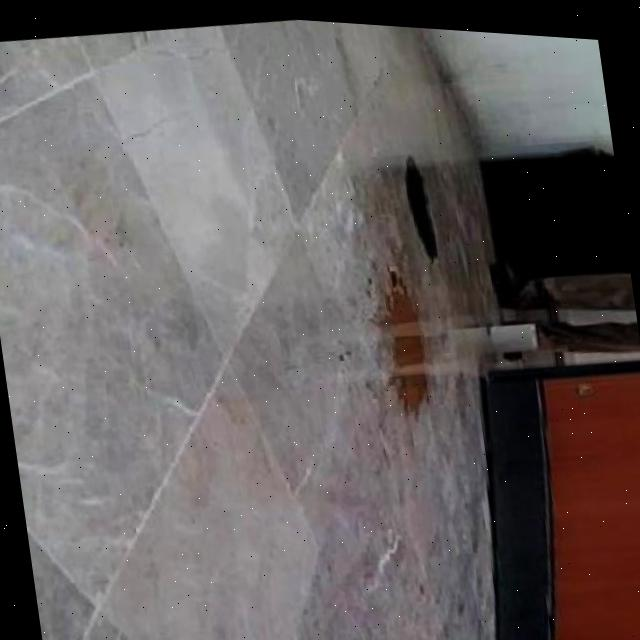spillage: (380, 266, 427, 409), (402, 150, 436, 256)
